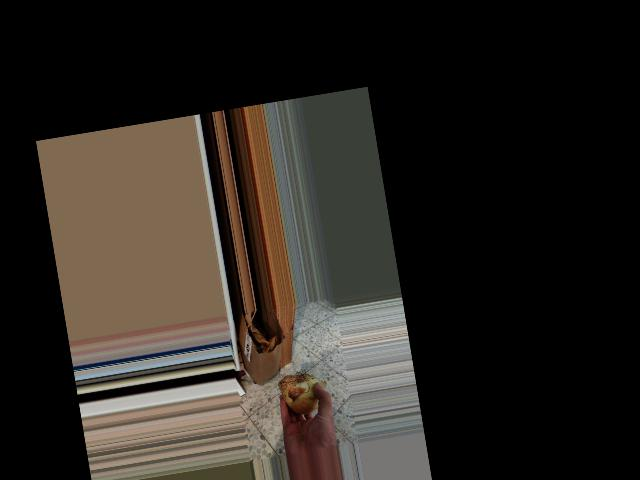onion: (276, 368, 328, 419)
